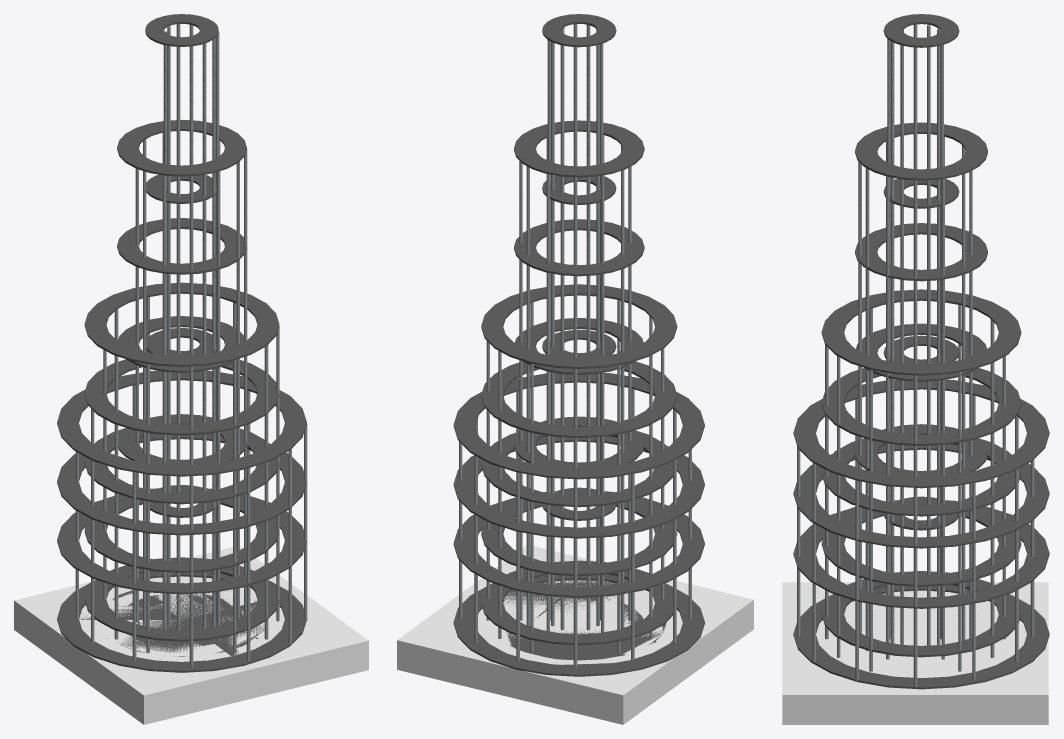
The model's file is 19_basestation.glb.
3 renders of one model, left to right at view 1: azimuth 30°, elevation 25°; view 2: azimuth 150°, elevation 25°; view 3: azimuth 270°, elevation 25°, orthographic. The views are drawn at different scales.
Visible parts, largest first — view 1: PAN, COOO, BOTTON; view 2: PAN, COOO, BOTTON; view 3: PAN, COOO, BOTTON.
Boxes of the visible parts, <box> form: PAN: <box>57,14,306,672</box>; COOO: <box>75,24,307,667</box>; BOTTON: <box>14,546,368,724</box>; PAN: <box>453,14,704,676</box>; COOO: <box>459,24,691,667</box>; BOTTON: <box>397,545,753,724</box>; PAN: <box>793,14,1049,689</box>; COOO: <box>797,24,1034,686</box>; BOTTON: <box>782,582,1048,724</box>.
Size of the model in its own units: 12.12 by 32.1 by 12.04.
Materials: 3 (2 with a texture image).
